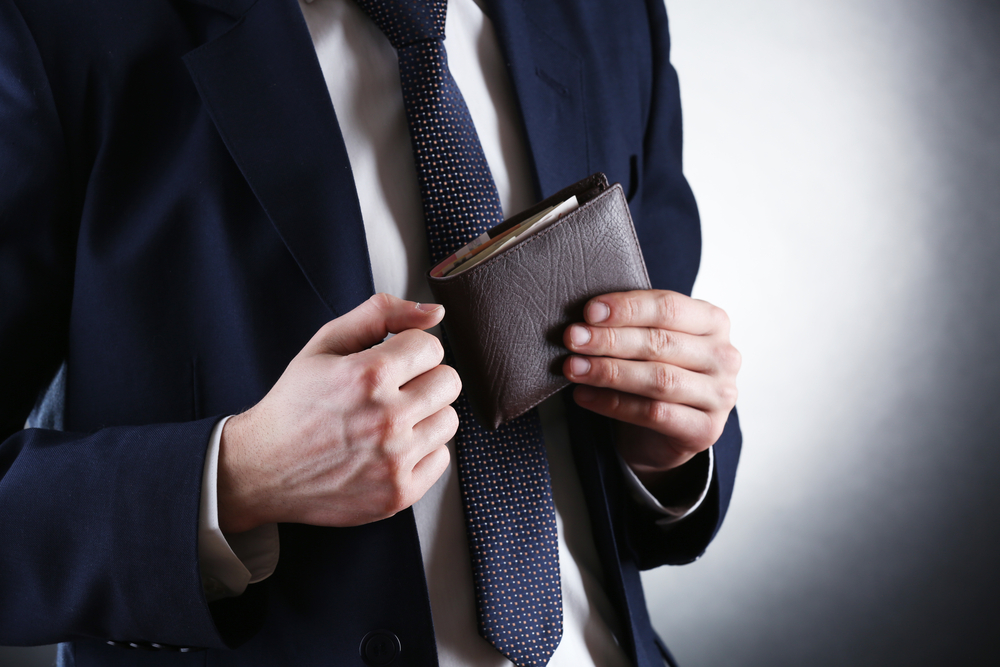monedero: (423, 169, 657, 434)
